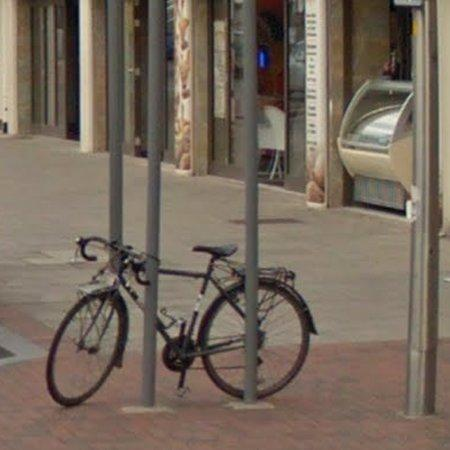bicycles: (46, 237, 147, 407), (155, 245, 246, 399), (257, 268, 317, 399)
